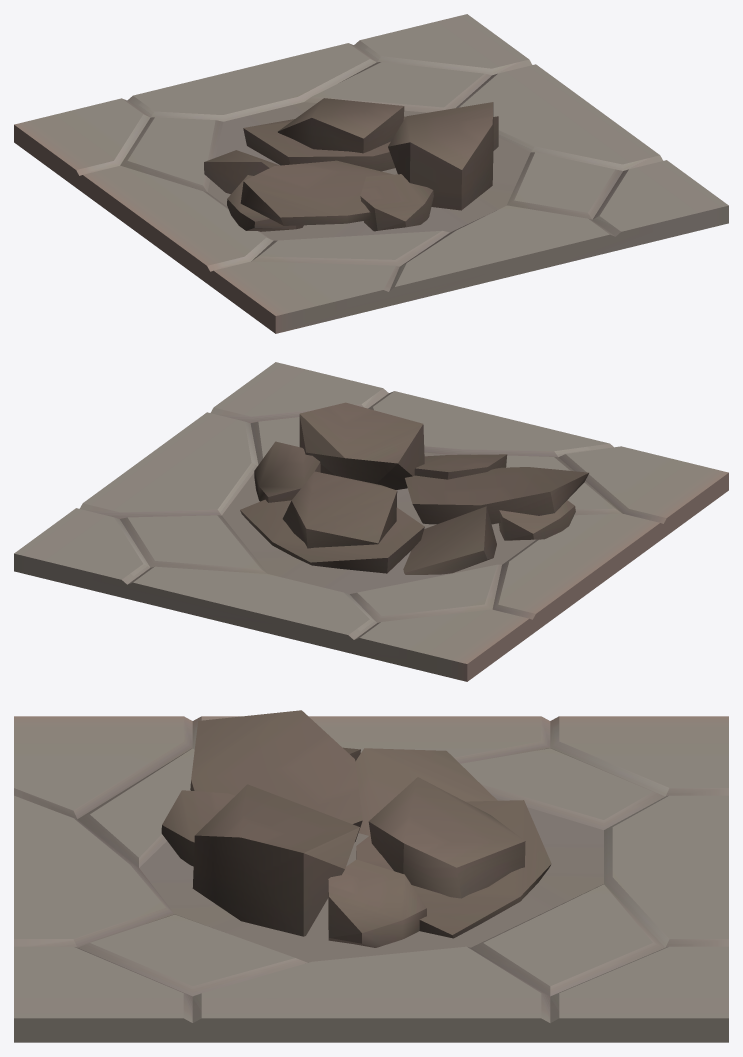
Rendered from floor_tile_large_rocks.glb.
The picture shows the model from 3 angles, top to bottom: view 1: azimuth 30°, elevation 25°; view 2: azimuth 150°, elevation 25°; view 3: azimuth 270°, elevation 25°; orthographic projection. The views are drawn at different scales.
Visible parts, largest first — view 1: floor_tile_large_rocks; view 2: floor_tile_large_rocks; view 3: floor_tile_large_rocks.
Part boxes in pixels (bbox=[...]): floor_tile_large_rocks: bbox=[14, 14, 728, 333]; floor_tile_large_rocks: bbox=[14, 362, 728, 681]; floor_tile_large_rocks: bbox=[14, 710, 728, 1042].
Size of the model in its own units: 4 by 0.6362 by 4.
Materials: 1 (1 with a texture image).
